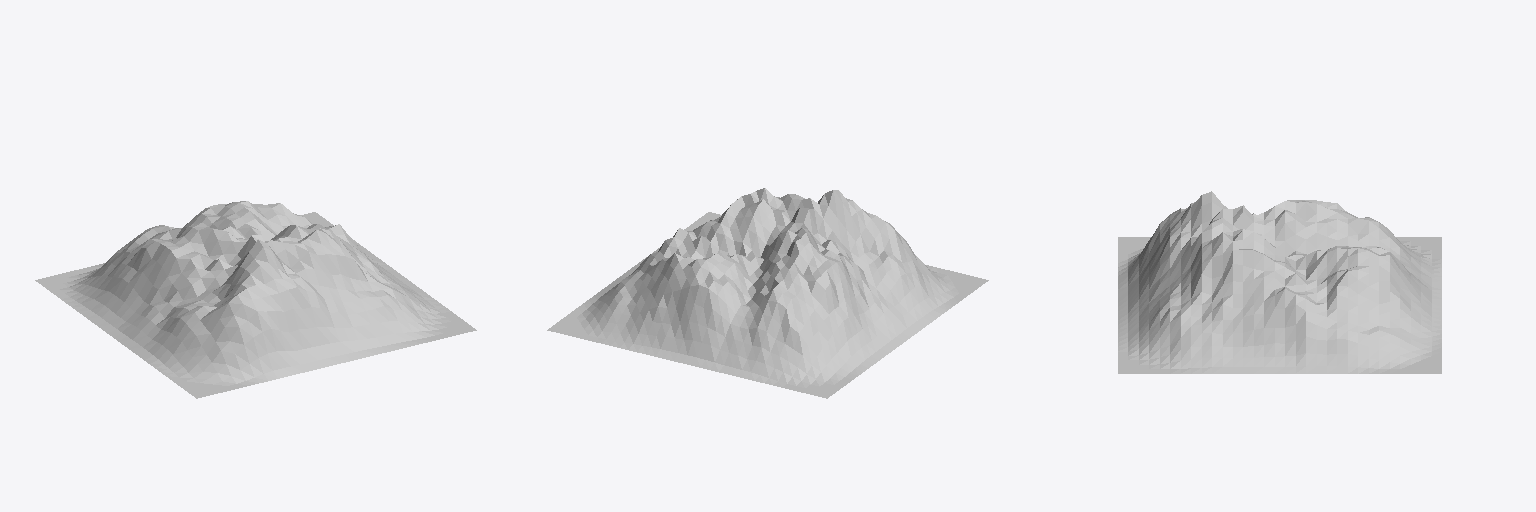
The model's file is terrain.obj.
3 renders of one model, left to right at view 1: azimuth 30°, elevation 25°; view 2: azimuth 150°, elevation 25°; view 3: azimuth 270°, elevation 25°, orthographic.
Visible parts, largest first — view 1: Landscape.001; view 2: Landscape.001; view 3: Landscape.001.
Part boxes in pixels (x1,y1,x2,y2): Landscape.001: (35,201,476,398); Landscape.001: (547,188,988,398); Landscape.001: (1118,191,1441,373).
Bounding box in the file's own units: 2 × 0.671 × 2.